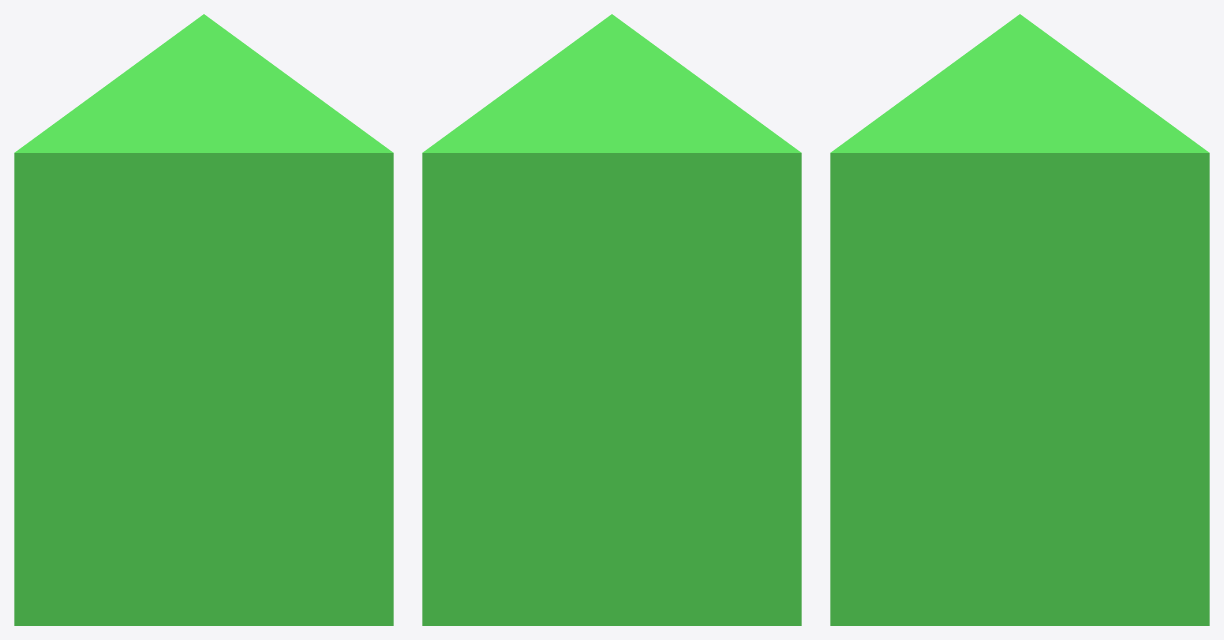
Rendered from Prisma_Triangular.fbx.
3 views of the same model, side by side, from view 1: azimuth 30°, elevation 25°; view 2: azimuth 150°, elevation 25°; view 3: azimuth 270°, elevation 25° (orthographic).
Parts seen in each view (by area): view 1: Model; view 2: Model; view 3: Model.
Boxes of the visible parts, x1,y1,x2,y2 form: Model: (14, 14, 393, 625); Model: (422, 14, 801, 625); Model: (830, 14, 1209, 625).
Size of the model in its own units: 75 by 119 by 86.6.
